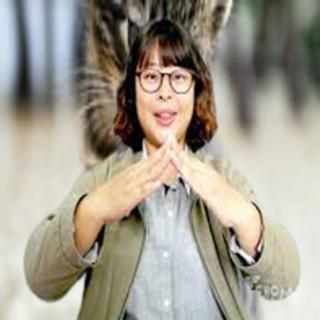HOME: (96, 135, 245, 229)
